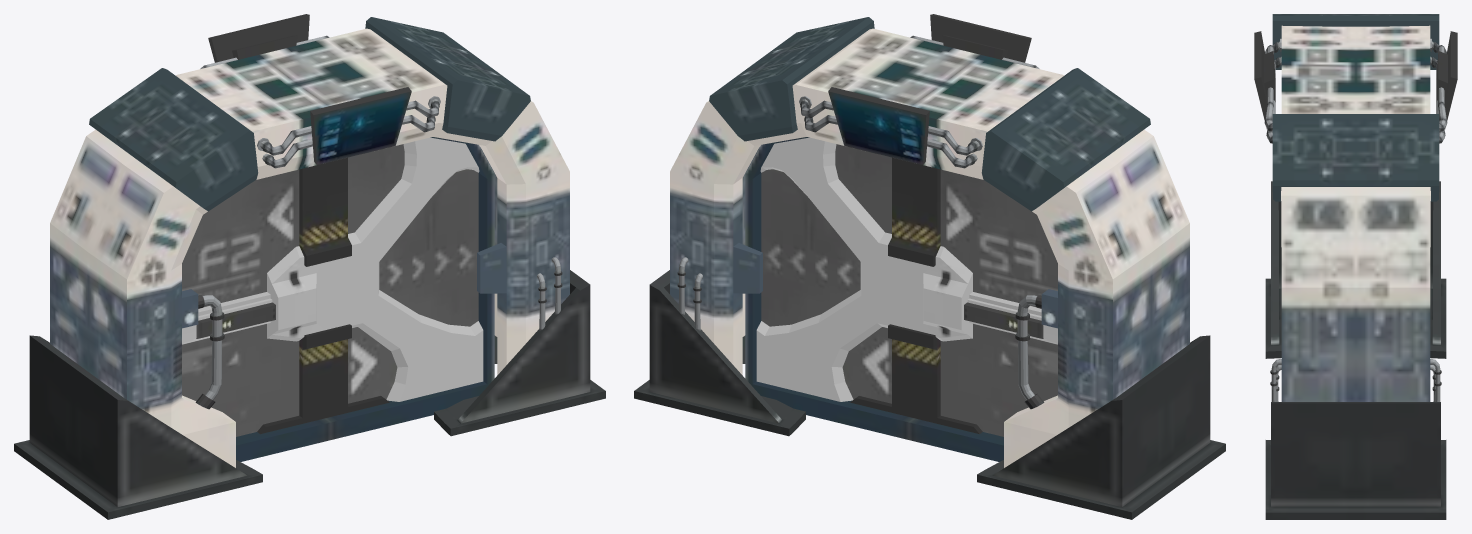
File: hollow-door.glb
3 renders of one model, left to right at view 1: azimuth 30°, elevation 25°; view 2: azimuth 150°, elevation 25°; view 3: azimuth 270°, elevation 25°, orthographic. The views are drawn at different scales.
Visible parts, largest first — view 1: Object008_pillar_0, Object008_LOCK1_0, Object008_DOOR_0, Object008_Bottom_0, Object008_lock02_0, Object008_emissive_0, Object008_TUBE_0; view 2: Object008_pillar_0, Object008_LOCK1_0, Object008_DOOR_0, Object008_Bottom_0, Object008_lock02_0, Object008_emissive_0, Object008_TUBE_0; view 3: Object008_pillar_0, Object008_Bottom_0, Object008_LOCK1_0, Object008_emissive_0, Object008_TUBE_0.
Boxes of the visible parts, x1=… form: Object008_pillar_0: x1=50, y1=28, x2=569, y2=467; Object008_LOCK1_0: x1=89, y1=17, x2=530, y2=401; Object008_DOOR_0: x1=182, y1=137, x2=494, y2=461; Object008_Bottom_0: x1=14, y1=270, x2=605, y2=519; Object008_lock02_0: x1=257, y1=157, x2=389, y2=434; Object008_emissive_0: x1=208, y1=14, x2=411, y2=164; Object008_TUBE_0: x1=195, y1=35, x2=562, y2=409; Object008_pillar_0: x1=670, y1=28, x2=1189, y2=467; Object008_LOCK1_0: x1=709, y1=17, x2=1150, y2=401; Object008_DOOR_0: x1=745, y1=137, x2=1057, y2=461; Object008_Bottom_0: x1=634, y1=270, x2=1225, y2=519; Object008_lock02_0: x1=850, y1=157, x2=982, y2=434; Object008_emissive_0: x1=828, y1=14, x2=1031, y2=164; Object008_TUBE_0: x1=677, y1=35, x2=1044, y2=409; Object008_pillar_0: x1=1281, y1=25, x2=1430, y2=401; Object008_Bottom_0: x1=1265, y1=181, x2=1446, y2=519; Object008_LOCK1_0: x1=1272, y1=14, x2=1439, y2=201; Object008_emissive_0: x1=1254, y1=31, x2=1457, y2=128; Object008_TUBE_0: x1=1264, y1=38, x2=1447, y2=401.
Bounding box in the file's own units: 221 × 154 × 81.25.
7 materials, 7 textured.
